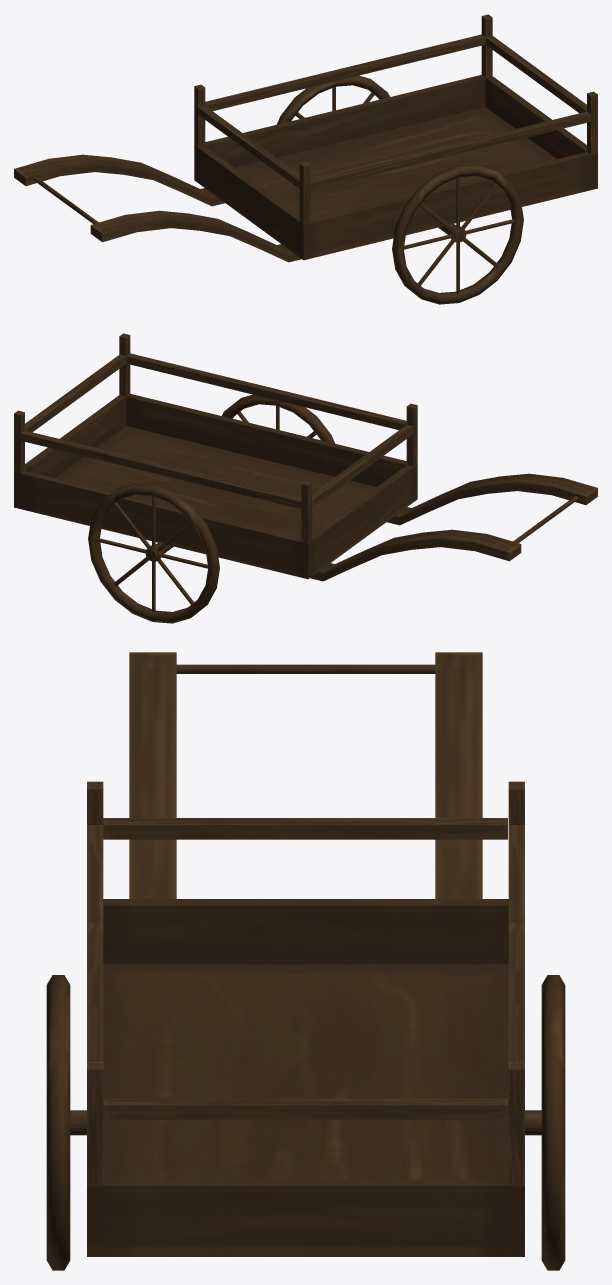
File: Cart_Geo.fbx
3 views of the same model, one above another, from view 1: azimuth 30°, elevation 25°; view 2: azimuth 150°, elevation 25°; view 3: azimuth 270°, elevation 25° (orthographic). The views are drawn at different scales.
Parts seen in each view (by area): view 1: Cart_Geo; view 2: Cart_Geo; view 3: Cart_Geo.
Boxes of the visible parts, box(x1,y1,x2,y2) form: Cart_Geo: box(14, 14, 597, 304); Cart_Geo: box(14, 333, 597, 623); Cart_Geo: box(46, 652, 565, 1270).
Bounding box in the file's own units: 291 × 95.22 × 135.
